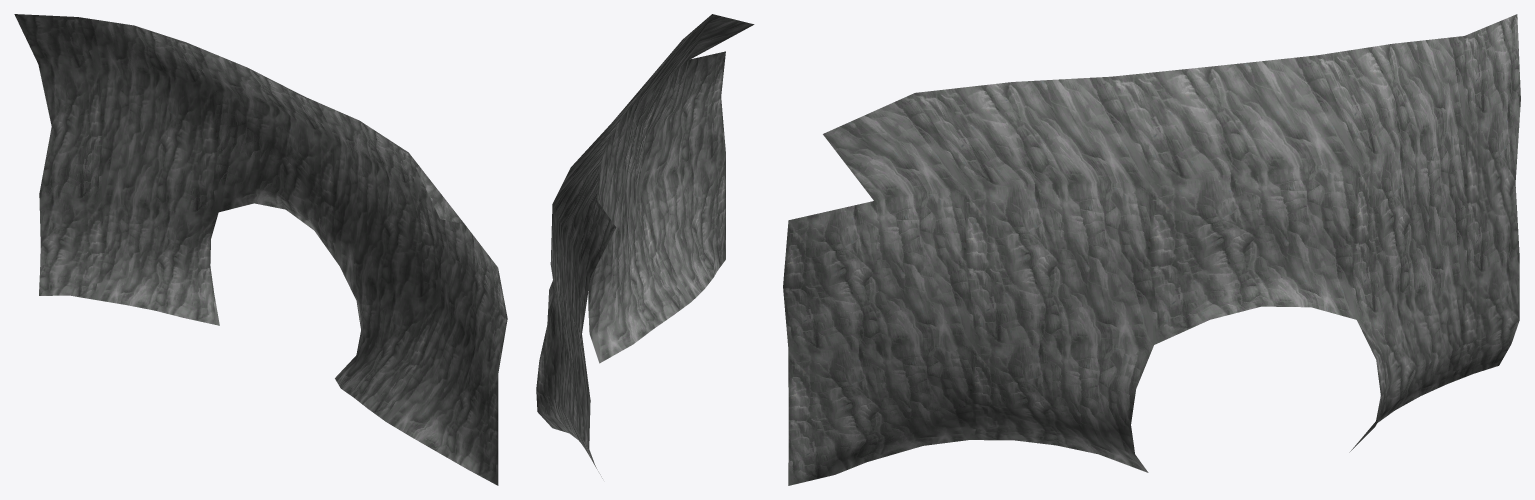
The model's file is SWORDLIGHT20_PS-AREA04_19.fbx.
3 renders of one model, left to right at view 1: azimuth 30°, elevation 25°; view 2: azimuth 150°, elevation 25°; view 3: azimuth 270°, elevation 25°, orthographic. The views are drawn at different scales.
Parts seen in each view (by area): view 1: SWORDLIGHT20_PS-AREA04_19; view 2: SWORDLIGHT20_PS-AREA04_19; view 3: SWORDLIGHT20_PS-AREA04_19.
Boxes of the visible parts, x1=… form: SWORDLIGHT20_PS-AREA04_19: x1=14, y1=14, x2=507, y2=485; SWORDLIGHT20_PS-AREA04_19: x1=536, y1=14, x2=754, y2=478; SWORDLIGHT20_PS-AREA04_19: x1=783, y1=14, x2=1520, y2=485.
Bounding box in the file's own units: 69661 × 102675 × 182432.
1 material, 1 textured.
